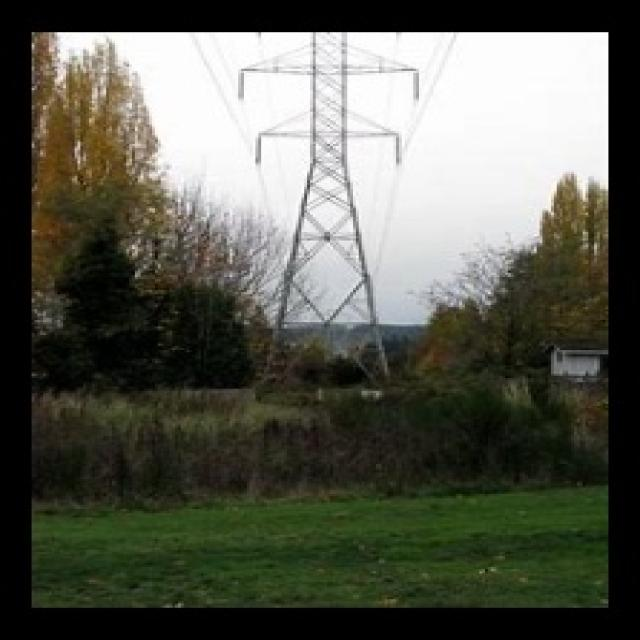utility poles: (187, 240, 316, 400), (337, 281, 481, 414)
